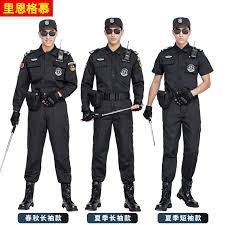uniform: (27, 42, 69, 192), (93, 47, 134, 191), (164, 40, 201, 189)
